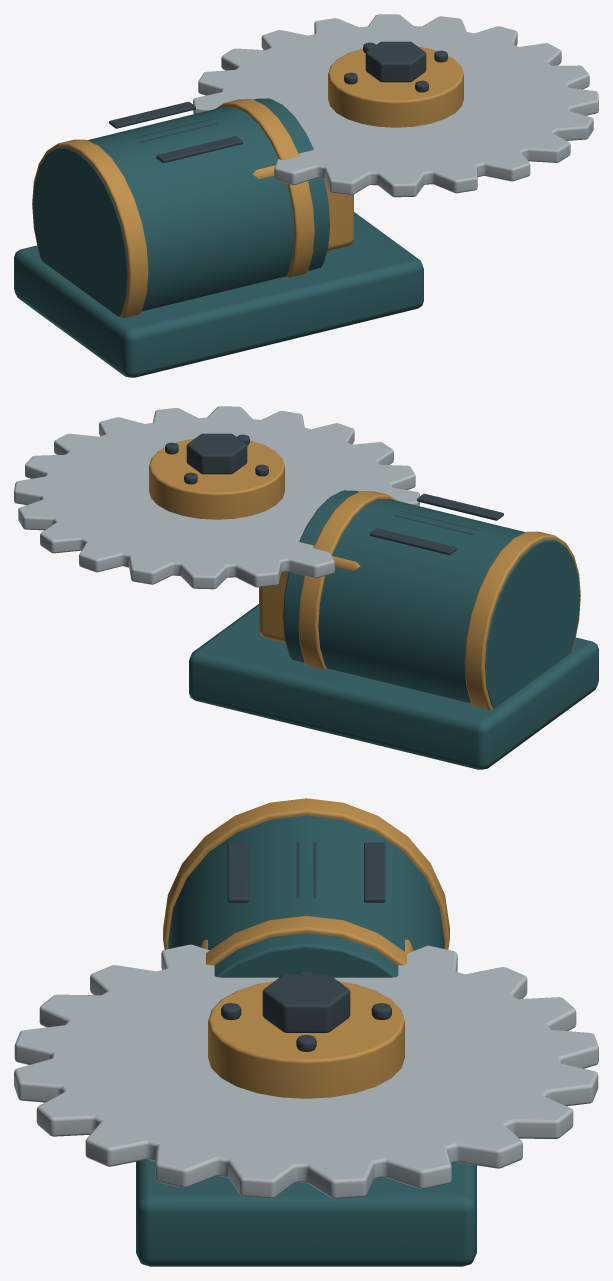
The model's file is part_cutting.glb.
3 renders of one model, top to bottom at view 1: azimuth 30°, elevation 25°; view 2: azimuth 150°, elevation 25°; view 3: azimuth 270°, elevation 25°, orthographic. The views are drawn at different scales.
Visible parts, largest first — view 1: twenty tooth blade, motor casing, teal mounting foot, central brass hub, motor brass collar, motor brass collar.001, hex spindle bolt, drive bracket, motor vent.002, motor vent; view 2: twenty tooth blade, motor casing, teal mounting foot, central brass hub, motor brass collar, motor brass collar.001, hex spindle bolt, drive bracket, motor vent, motor vent.002; view 3: twenty tooth blade, motor casing, teal mounting foot, central brass hub, motor brass collar, hex spindle bolt, motor brass collar.001, motor vent, motor vent.002.
Part boxes in pixels (x1,y1,x2,y2): twenty tooth blade: [193, 14, 598, 197]; motor casing: [33, 98, 329, 316]; teal mounting foot: [14, 212, 423, 377]; central brass hub: [328, 46, 463, 127]; motor brass collar: [32, 139, 148, 317]; motor brass collar.001: [216, 99, 314, 277]; hex spindle bolt: [365, 41, 426, 82]; drive bracket: [252, 165, 353, 251]; motor vent.002: [109, 101, 195, 128]; motor vent: [156, 136, 242, 162]; twenty tooth blade: [14, 406, 419, 589]; motor casing: [283, 490, 579, 708]; teal mounting foot: [189, 604, 598, 769]; central brass hub: [149, 438, 284, 519]; motor brass collar: [464, 531, 580, 709]; motor brass collar.001: [298, 491, 396, 669]; hex spindle bolt: [186, 433, 247, 474]; drive bracket: [259, 556, 360, 643]; motor vent: [417, 493, 503, 520]; motor vent.002: [370, 528, 456, 554]; twenty tooth blade: [14, 944, 598, 1198]; motor casing: [168, 815, 444, 977]; teal mounting foot: [136, 1159, 476, 1266]; central brass hub: [208, 981, 404, 1098]; motor brass collar: [163, 798, 449, 949]; hex spindle bolt: [262, 974, 350, 1032]; motor brass collar.001: [206, 916, 407, 965]; motor vent: [227, 842, 248, 902]; motor vent.002: [364, 842, 385, 902].
Size of the model in its own units: 0.4681 by 0.186 by 0.3261.
